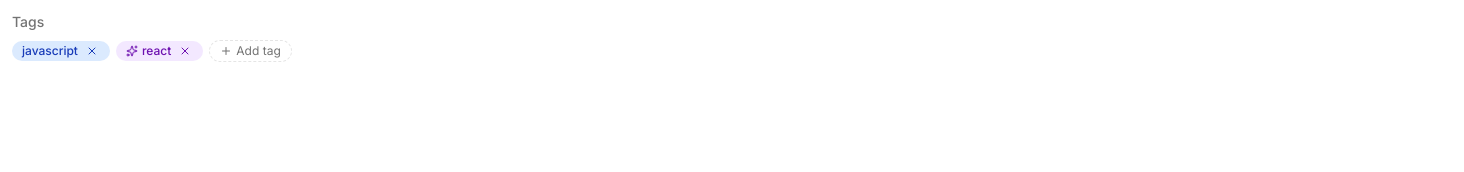
Test: TagManager › closes input on Escape
Click the button "Add tag".
click(250, 51)  # box [209,40,292,62]
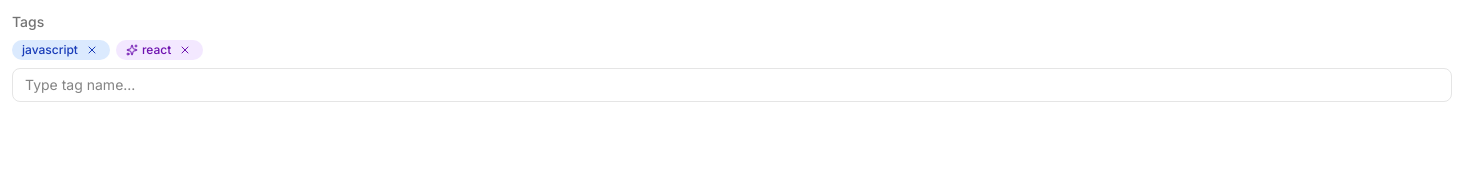
Press Escape in the field with placeholder "Type tag name...", box [12,68,1452,102]
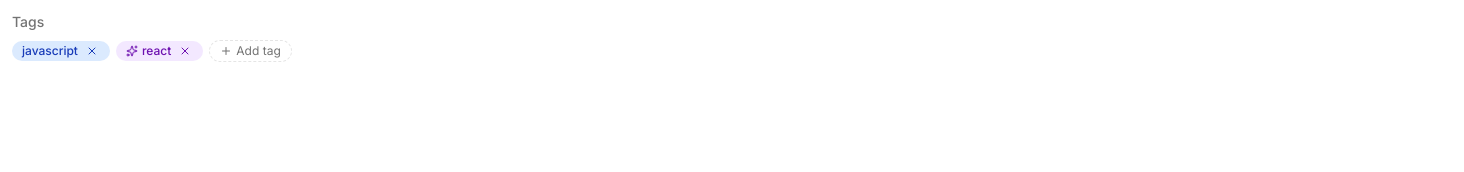
Expected: the field is gone
